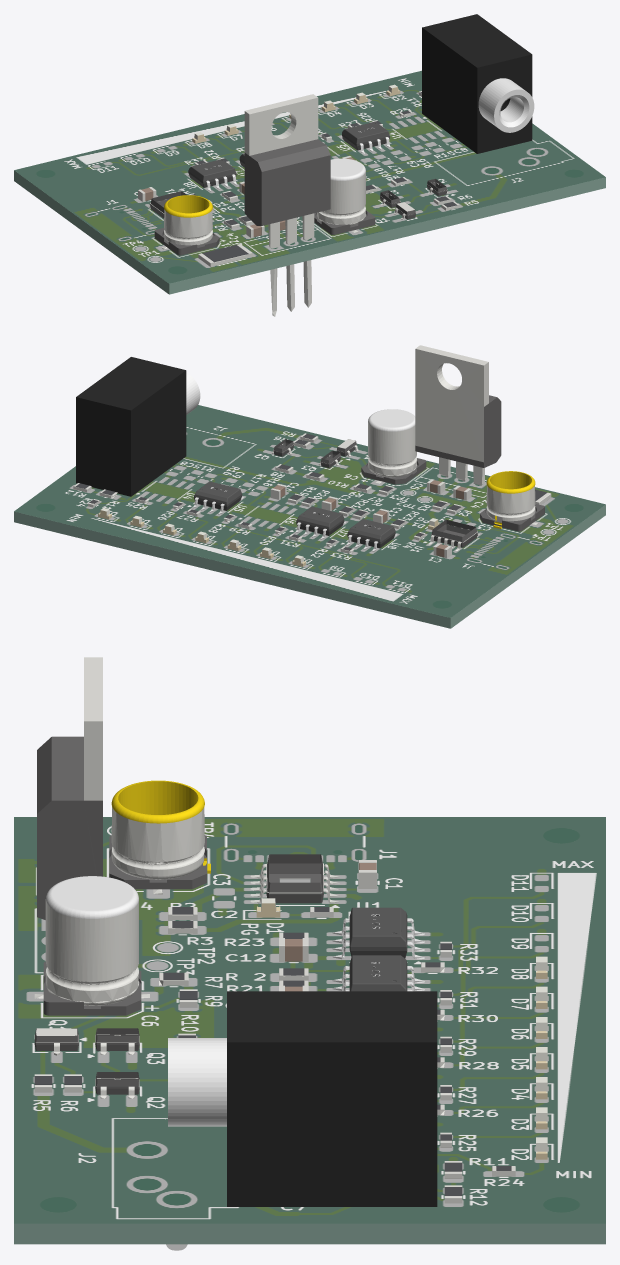
Rendered from pcb_map_baked.glb.
3 views of the same model, one above another, from view 1: azimuth 30°, elevation 25°; view 2: azimuth 150°, elevation 25°; view 3: azimuth 270°, elevation 25° (orthographic). The views are drawn at different scales.
Parts seen in each view (by area): view 1: board_top, pcb_part_17, pcb_part_02, pcb_part_13, board_body, pcb_part_14, pcb_part_05, pcb_part_18, pcb_part_11, pcb_part_12, pcb_part_10; view 2: board_top, pcb_part_02, pcb_part_17, board_body, pcb_part_13, pcb_part_05, pcb_part_18, pcb_part_11, pcb_part_12, pcb_part_10, pcb_part_15, pcb_part_07 (+2 smaller); view 3: board_top, pcb_part_17, pcb_part_02, pcb_part_13, board_body, pcb_part_14, pcb_part_05, pcb_part_11, pcb_part_12, pcb_part_18, pcb_part_16, pcb_part_07 (+1 smaller).
Part boxes in pixels (<box>): board_top: <box>14,70,605,283</box>; pcb_part_17: <box>422,14,532,153</box>; pcb_part_02: <box>138,91,459,316</box>; pcb_part_13: <box>150,139,447,255</box>; board_body: <box>14,170,605,294</box>; pcb_part_14: <box>478,78,534,132</box>; pcb_part_05: <box>188,121,389,187</box>; pcb_part_18: <box>190,92,456,262</box>; pcb_part_11: <box>164,195,212,217</box>; pcb_part_12: <box>330,158,365,180</box>; pcb_part_10: <box>192,87,400,210</box>; board_top: <box>14,405,605,617</box>; pcb_part_02: <box>73,345,551,558</box>; pcb_part_17: <box>76,357,186,496</box>; board_body: <box>14,504,605,628</box>; pcb_part_13: <box>273,395,544,547</box>; pcb_part_05: <box>194,481,395,548</box>; pcb_part_18: <box>75,434,547,550</box>; pcb_part_11: <box>486,471,535,528</box>; pcb_part_12: <box>368,409,415,431</box>; pcb_part_10: <box>98,510,439,566</box>; pcb_part_15: <box>273,480,467,557</box>; pcb_part_07: <box>193,487,396,551</box>; board_top: <box>14,817,605,1223</box>; pcb_part_17: <box>227,991,437,1206</box>; pcb_part_02: <box>34,657,515,1203</box>; pcb_part_13: <box>34,736,323,1094</box>; board_body: <box>14,1223,605,1244</box>; pcb_part_14: <box>166,1038,226,1250</box>; pcb_part_05: <box>349,907,407,991</box>; pcb_part_11: <box>111,780,210,873</box>; pcb_part_12: <box>46,876,138,918</box>; pcb_part_18: <box>34,907,511,1195</box>; pcb_part_16: <box>163,898,547,1152</box>; pcb_part_07: <box>332,918,424,991</box>.
Bounding box in the file's own units: 0.065 × 0.0285 × 0.04.
17 materials, 1 textured.
